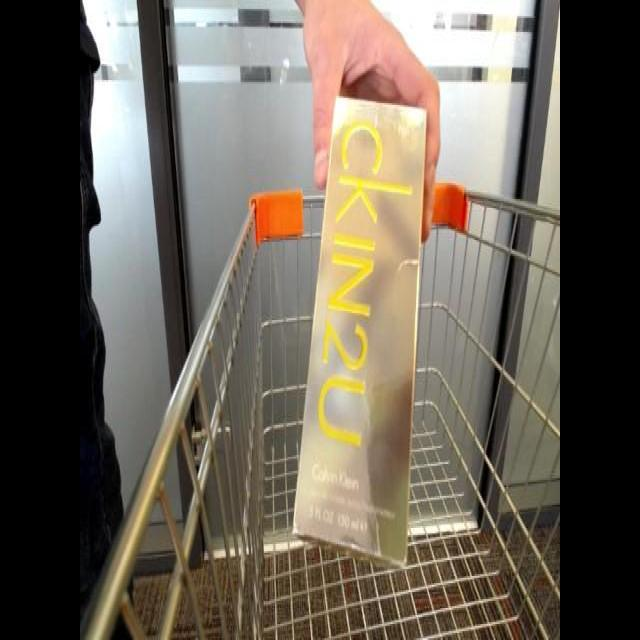Calvin Klein: (287, 94, 433, 576)
